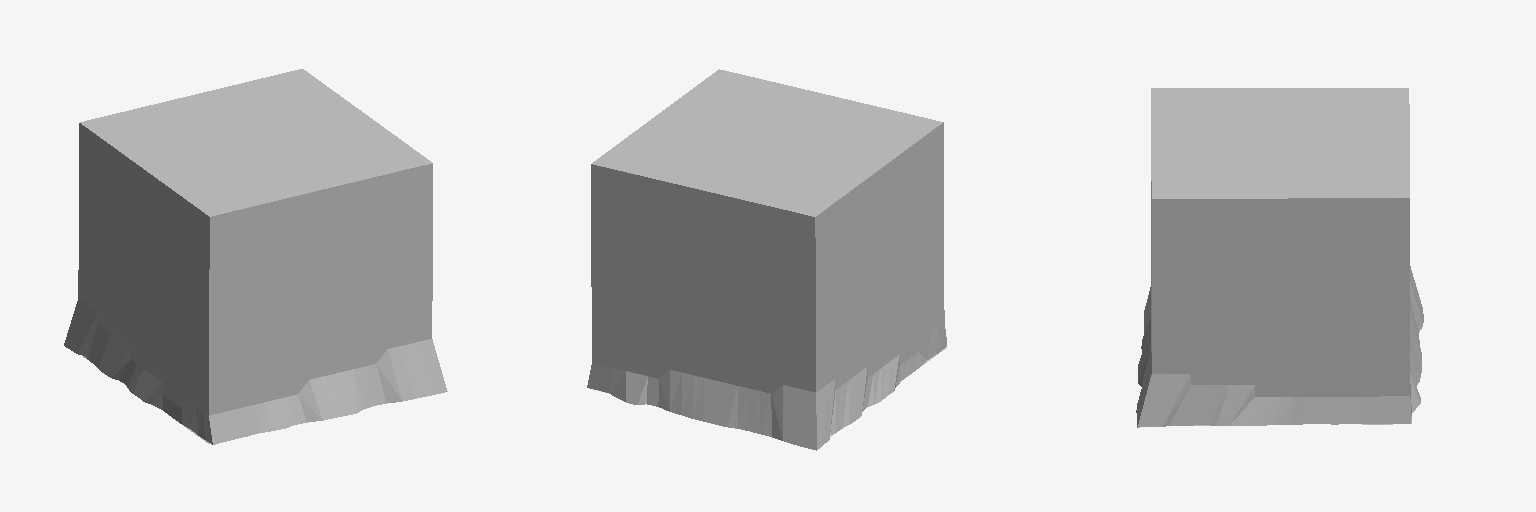
Rendered from mod0190.obj.
3 views of the same model, side by side, from view 1: azimuth 30°, elevation 25°; view 2: azimuth 150°, elevation 25°; view 3: azimuth 270°, elevation 25° (orthographic).
Parts seen in each view (by area): view 1: Box001; view 2: Box001; view 3: Box001.
Part boxes in pixels (x1,y1,x2,y2): Box001: (64,69,447,444); Box001: (587,69,946,450); Box001: (1136,88,1423,427).
Size of the model in its own units: 0.5799 by 0.5218 by 0.5979.